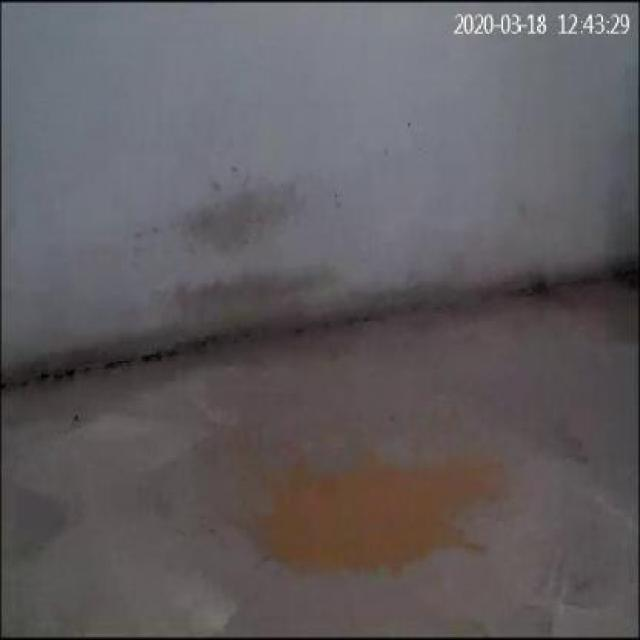spill: (252, 456, 516, 584)
